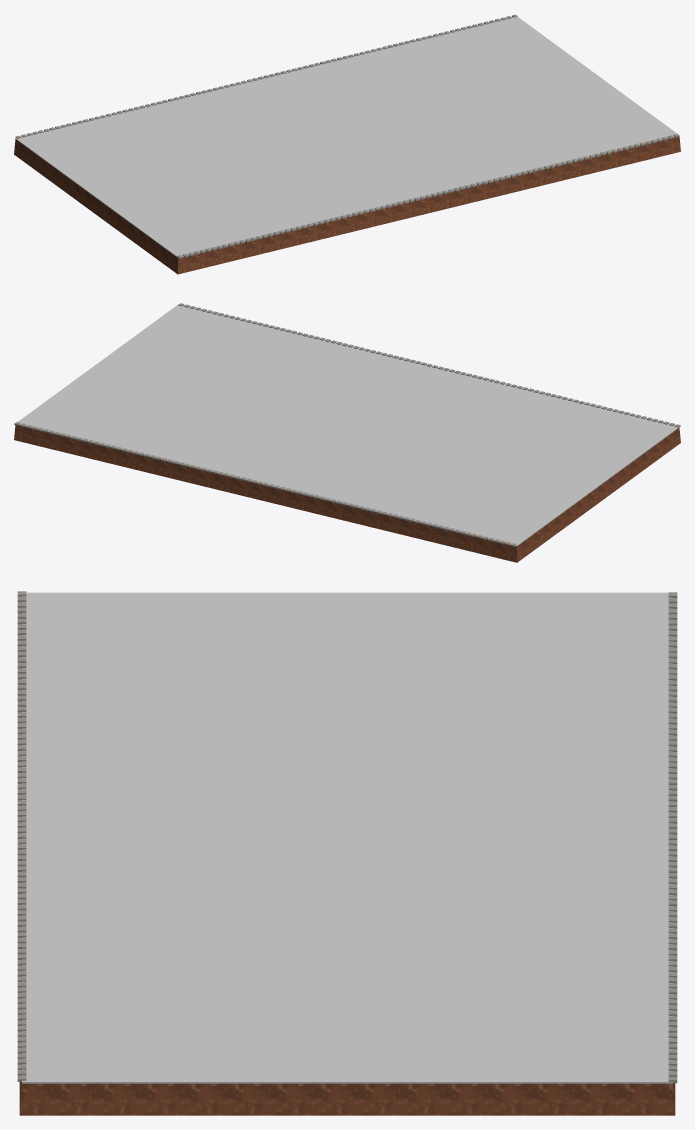
The model's file is SM_Art_Authored_SupplyRoute_8000x4500x250_1_3.gltf.
3 renders of one model, top to bottom at view 1: azimuth 30°, elevation 25°; view 2: azimuth 150°, elevation 25°; view 3: azimuth 270°, elevation 25°, orthographic. The views are drawn at different scales.
Visible parts, largest first — view 1: SM_Art_Authored_SupplyRoute_8000x4500x250_1_3; view 2: SM_Art_Authored_SupplyRoute_8000x4500x250_1_3; view 3: SM_Art_Authored_SupplyRoute_8000x4500x250_1_3.
Boxes of the visible parts, bbox=[...] form: SM_Art_Authored_SupplyRoute_8000x4500x250_1_3: bbox=[14, 14, 680, 274]; SM_Art_Authored_SupplyRoute_8000x4500x250_1_3: bbox=[14, 303, 680, 562]; SM_Art_Authored_SupplyRoute_8000x4500x250_1_3: bbox=[17, 591, 677, 1115].
Bounding box in the file's own units: 80.3 × 2.62 × 45.6.
